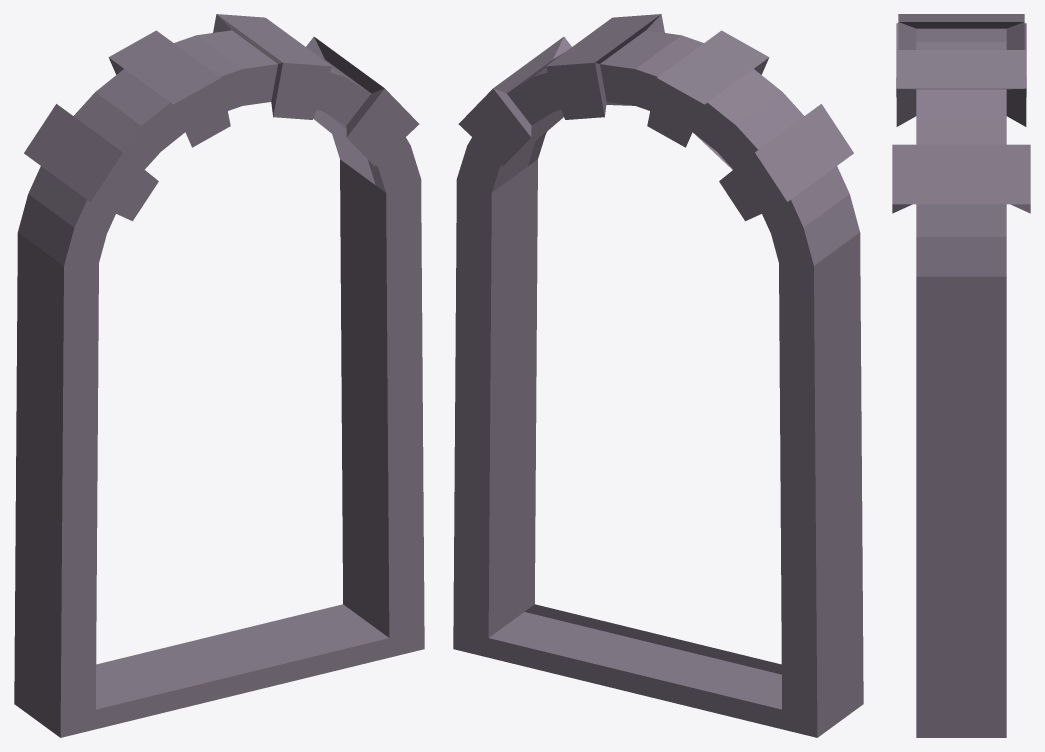
File: door-frame-0.glb
3 renders of one model, left to right at view 1: azimuth 30°, elevation 25°; view 2: azimuth 150°, elevation 25°; view 3: azimuth 270°, elevation 25°, orthographic. The views are drawn at different scales.
Parts seen in each view (by area): view 1: doorFrame.001; view 2: doorFrame.001; view 3: doorFrame.001.
Part boxes in pixels (x1,y1,x2,y2): doorFrame.001: [14, 14, 424, 737]; doorFrame.001: [453, 14, 863, 737]; doorFrame.001: [892, 14, 1030, 737].
Bounding box in the file's own units: 1.34 × 2.21 × 0.4505.
Materials: 1 (1 with a texture image).
